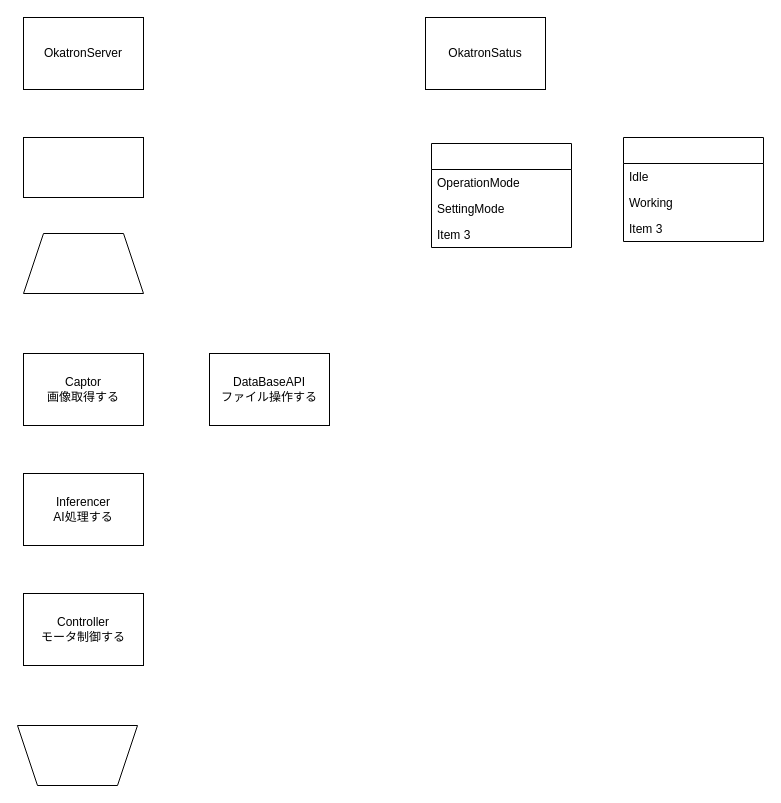
The diagram is 781 pixels wide and 803 high, and some of its shapes have lost their labels. The shapes that lost their labels are listed below. From the top down, each one's box as (x1, y1, x2, y2) in pixels, then its label:
(22, 136, 144, 198): Start IO
(430, 142, 572, 248): OkatronMode
(622, 136, 764, 242): OkatronState
